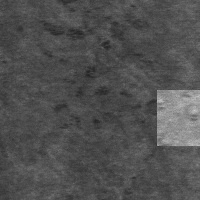rolled-in_scale: (43, 23, 118, 129), (157, 90, 200, 146)
